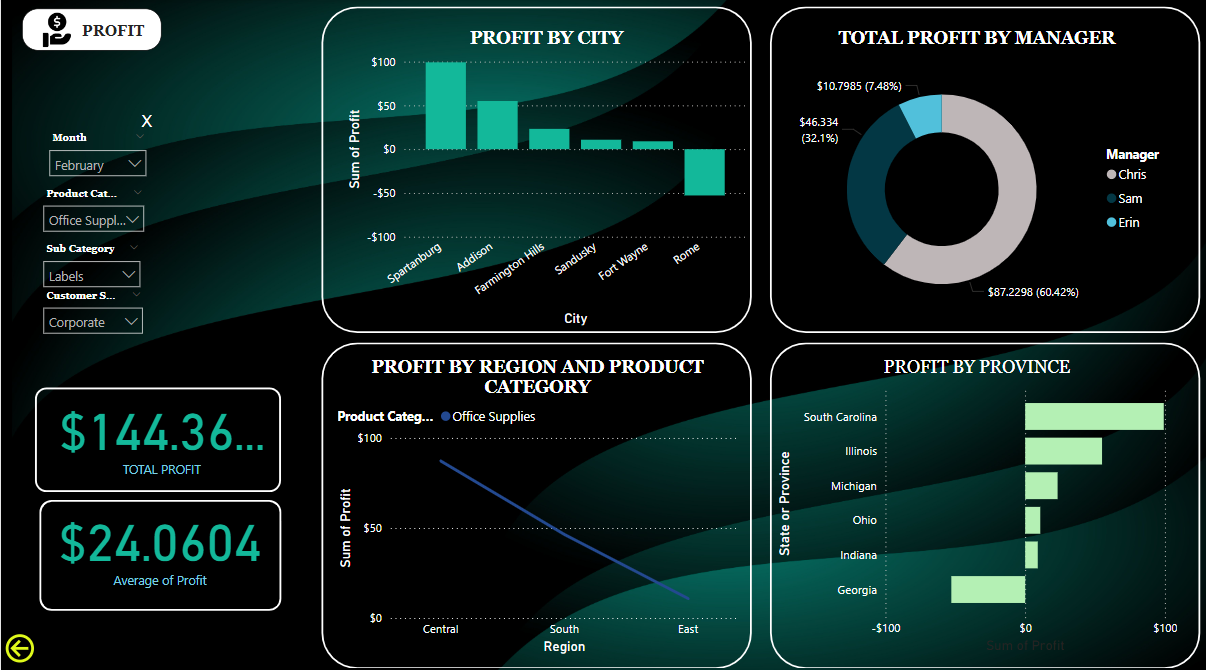

The page's visual inventory and layout, read from the dashboard file:
{"tool":"powerbi","page":{"name":"PROFIT","canvas":[1280,720],"ordinal":3},"visuals":[{"type":"slicer","title":"month slicer","fields":{"Values":["DataSheet.Order Date.Variation.Date Hierarchy.Month"]},"box":[40.4,137.2,122.7,56.2],"z":0,"group":"g1"},{"type":"lineChart","title":"PROFIT BY  REGION AND PRODUCT CATEGORY","fields":{"Y":["DataSheet.Profit"],"Category":["DataSheet.Region"],"Series":["DataSheet.Product Category"]},"box":[351.4,380,434.3,320],"z":0},{"type":"columnChart","title":"PROFIT BY CITY","fields":{"Y":["DataSheet.Profit"],"Category":["DataSheet.City"]},"box":[361.4,31.4,434.3,320],"z":1000},{"type":"slicer","title":"customer seg slicer","fields":{"Values":["DataSheet.Customer Segment"]},"box":[34.4,303.9,125.3,59.7],"z":1000,"group":"g1"},{"type":"donutChart","title":"TOTAL PROFIT BY MANAGER","fields":{"Y":["DataSheet.Profit"],"Category":["DataSheet.Manager"]},"box":[817.1,31.4,434.3,320],"z":2000},{"type":"slicer","title":"product cat slicer","fields":{"Values":["DataSheet.Product Category"]},"box":[34.3,196.2,126.7,64.4],"z":2000,"group":"g1"},{"type":"slicer","title":" sub category slicer","fields":{"Values":["DataSheet.Product Sub-Category"]},"box":[34.4,253.6,122.7,56.2],"z":3000,"group":"g1"},{"type":"clusteredBarChart","title":"PROFIT BY PROVINCE","fields":{"Y":["DataSheet.Profit"],"Category":["DataSheet.State or Province"]},"box":[817.1,380,434.3,318.6],"z":3000},{"type":"actionButton","title":"X Button","box":[135.3,114.3,36,32.8],"z":4000,"group":"g1"},{"type":"image","box":[216.2,445,100,73.8],"z":4000},{"type":"card","fields":{"Values":["DataSheet.Profit"]},"box":[52.2,403.3,235.6,115.6],"z":5000},{"type":"card","fields":{"Values":["DataSheet.Profit"]},"box":[34.4,518.9,266.7,122.2],"z":6000},{"type":"shape","box":[32.2,523.3,274.4,135.6],"z":7000},{"type":"shape","box":[27.8,403.3,278.9,128.9],"z":8000},{"type":"shape","box":[805.7,0,474.3,364.3],"z":9000},{"type":"shape","box":[331.4,0,474.3,364.3],"z":10000},{"type":"shape","box":[805.7,355.7,474.3,364.3],"z":11000},{"type":"shape","box":[331.4,355.7,474.3,364.3],"z":12000},{"type":"group","id":"g1","title":"Filter","box":[34.3,114.3,137.1,250],"z":13000},{"type":"textbox","box":[21.8,10.9,148.2,44.5],"z":14000},{"type":"image","box":[28.2,9.1,60.9,49.1],"z":15000},{"type":"actionButton","box":[0,668.9,100,40],"z":16000}]}

Visuals, with their boxes in screenshot pixels (x1, y1, x2, y2), scaled from the page's 1280x720 canvas onto the 1206x670 screenshot:
"month slicer" slicer: (38, 128, 154, 180)
"PROFIT BY  REGION AND PRODUCT CATEGORY" lineChart: (331, 354, 740, 651)
"PROFIT BY CITY" columnChart: (341, 29, 750, 327)
"customer seg slicer" slicer: (32, 283, 150, 338)
"TOTAL PROFIT BY MANAGER" donutChart: (770, 29, 1179, 327)
"product cat slicer" slicer: (32, 183, 152, 243)
" sub category slicer" slicer: (32, 236, 148, 288)
"PROFIT BY PROVINCE" clusteredBarChart: (770, 354, 1179, 650)
"X Button" actionButton: (127, 106, 161, 137)
image: (204, 414, 298, 483)
card - DataSheet.Profit: (49, 375, 271, 483)
card - DataSheet.Profit: (32, 483, 284, 597)
shape: (30, 487, 289, 613)
shape: (26, 375, 289, 495)
shape: (759, 0, 1205, 339)
shape: (312, 0, 759, 339)
shape: (759, 331, 1205, 669)
shape: (312, 331, 759, 669)
"Filter" group: (32, 106, 161, 339)
textbox: (21, 10, 160, 52)
image: (27, 8, 84, 54)
actionButton: (0, 622, 94, 660)
